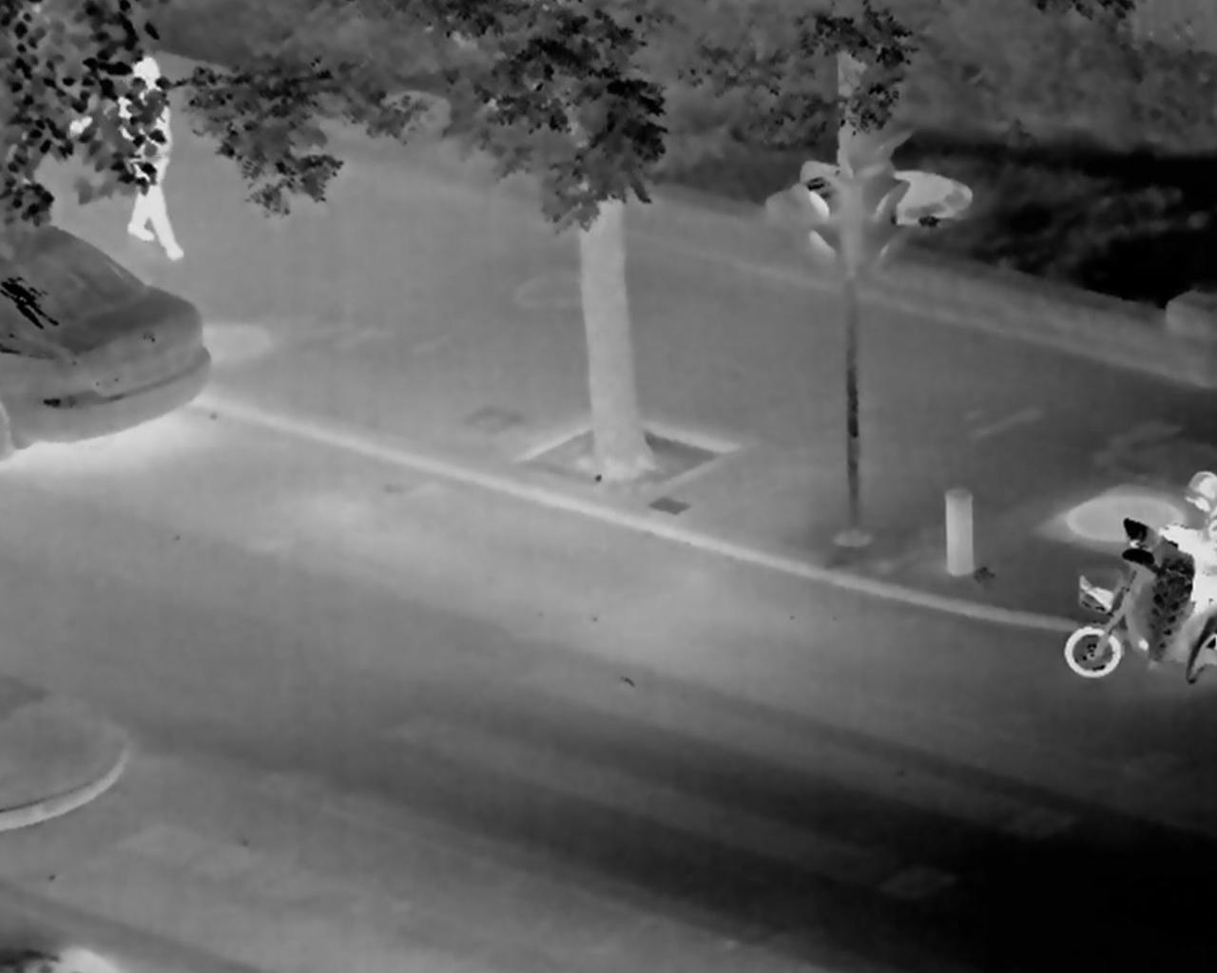person: (106, 61, 206, 296), (1183, 464, 1217, 622)
